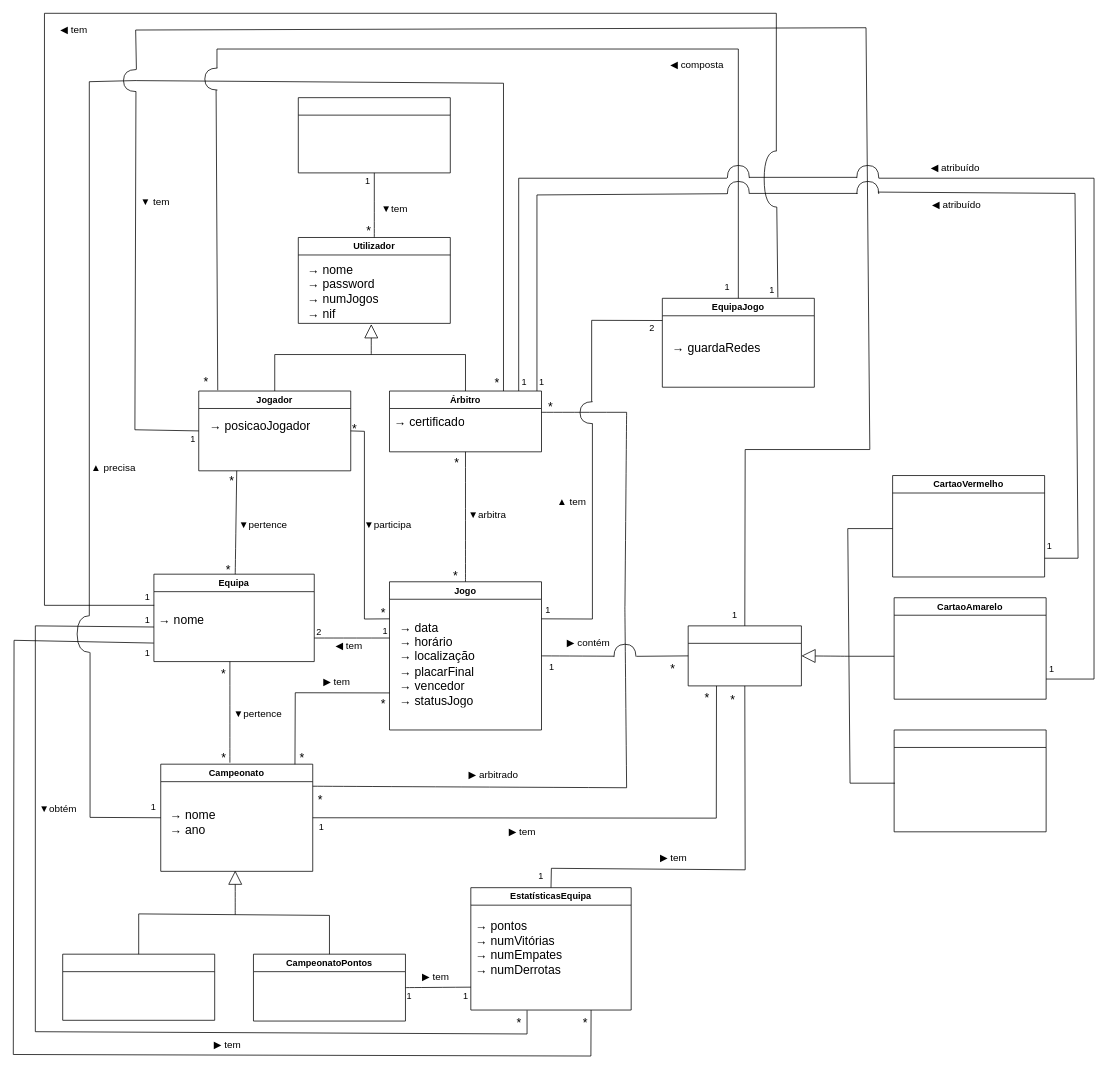
The diagram is 1108 pixels wide and 1070 high, and some of its shapes have lost their labels. Each missing label, with the centre of its shape:
CampeonatoEliminatorias: the point at 138,986
Estatísticas: the point at 744,655
Golo: the point at 969,780
SistemaSoccerNow: the point at 374,135
